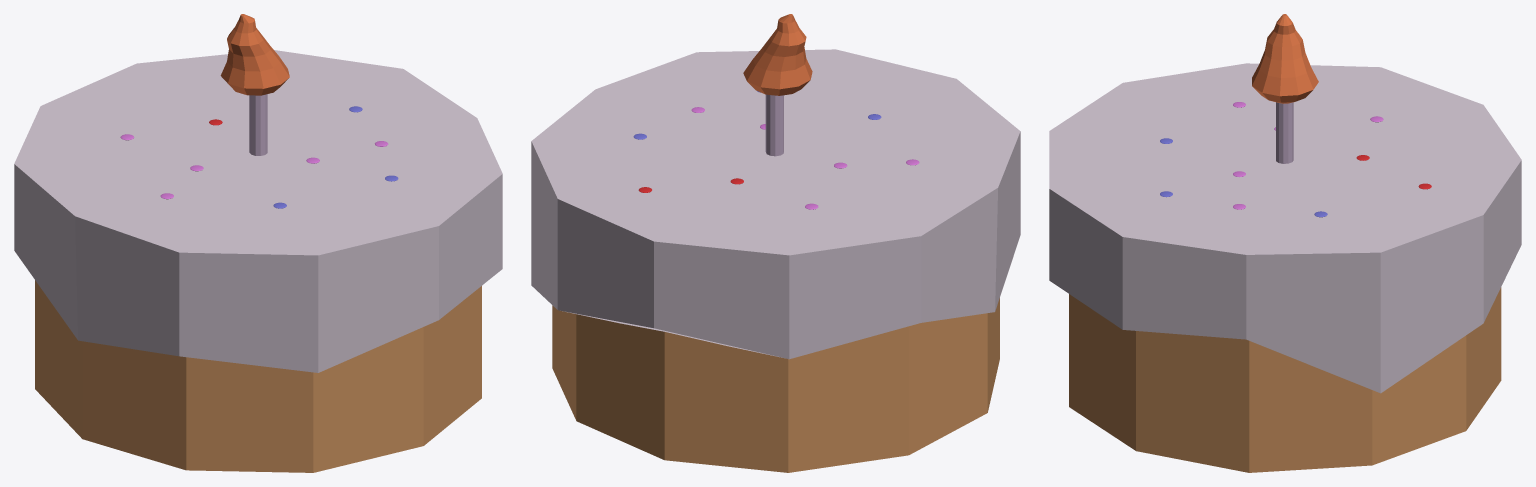
Rendered from cake.fbx.
3 renders of one model, left to right at view 1: azimuth 30°, elevation 25°; view 2: azimuth 150°, elevation 25°; view 3: azimuth 270°, elevation 25°, orthographic. The views are drawn at different scales.
Visible parts, largest first — view 1: Cylinder; view 2: Cylinder; view 3: Cylinder.
Boxes of the visible parts, x1,y1,x2,y2 form: Cylinder: (14, 14, 502, 472); Cylinder: (531, 14, 1020, 472); Cylinder: (1049, 14, 1521, 472).
Bounding box in the file's own units: 205 × 179 × 214.
